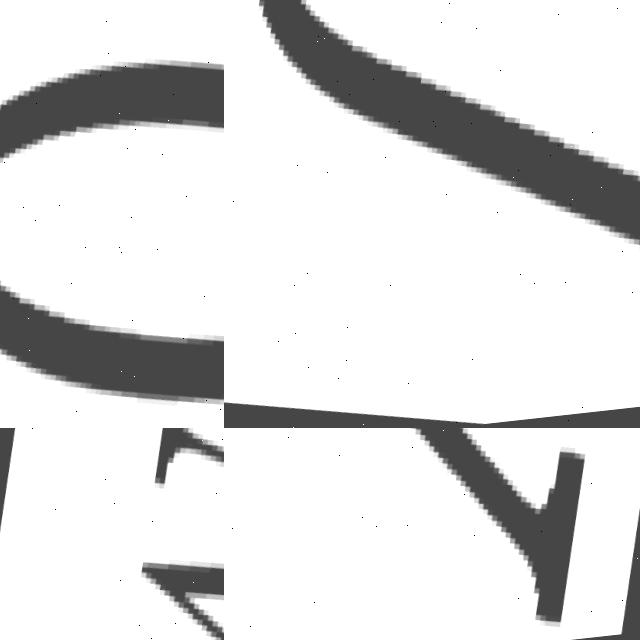J: (224, 0, 640, 413)
M: (58, 428, 224, 640)
O: (0, 64, 224, 414)
Y: (224, 428, 640, 640)
